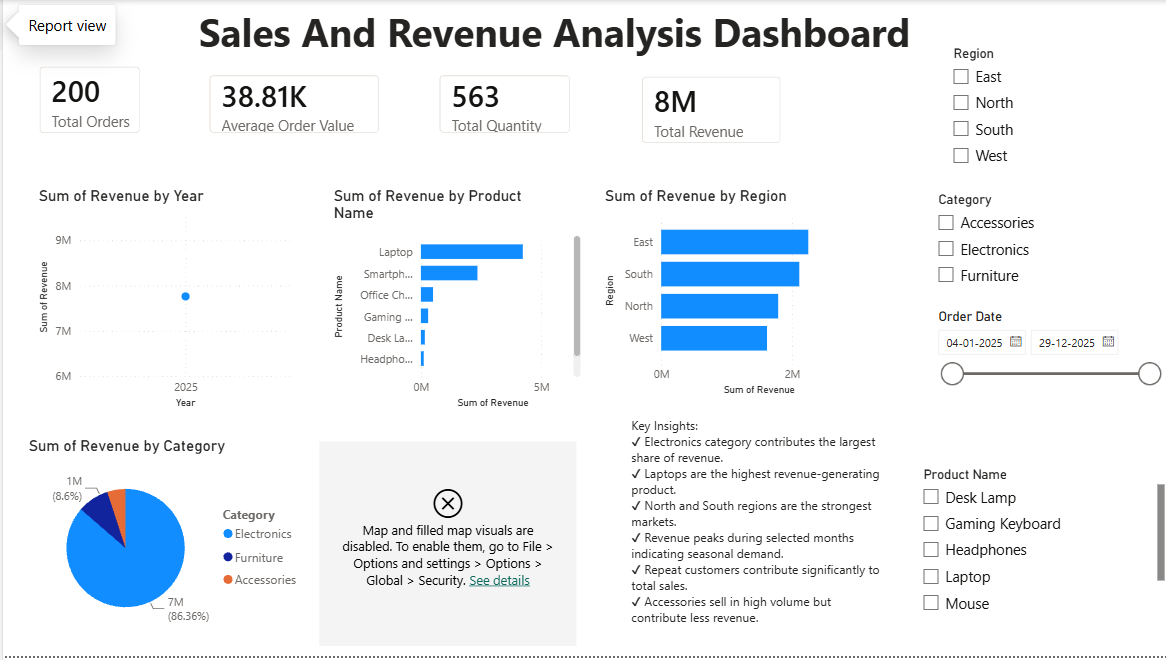

Layout of this report page (visuals, bound fields, positions):
{"tool":"powerbi","page":{"name":"Page 1","canvas":[1280,720],"ordinal":0},"visuals":[{"type":"cardVisual","fields":{"Data":["Sales_Revenue_Dashboard_Dataset (1).Total Orders"]},"box":[23.3,56.3,144.1,107],"z":0},{"type":"cardVisual","fields":{"Data":["Sales_Revenue_Dashboard_Dataset (1).Total Revenue"]},"box":[684.7,67.2,186.6,107],"z":1000},{"type":"cardVisual","fields":{"Data":["Sales_Revenue_Dashboard_Dataset (1).Average Order Value"]},"box":[209.9,65.9,220.9,97.4],"z":2000},{"type":"cardVisual","fields":{"Data":["Sales_Revenue_Dashboard_Dataset (1).Total Quantity"]},"box":[462.4,65.9,177,97.4],"z":3000},{"type":"lineChart","fields":{"Category":["Sales_Revenue_Dashboard_Dataset (1).Order Date.Variation.Date Hierarchy.Year","Sales_Revenue_Dashboard_Dataset (1).Order Date.Variation.Date Hierarchy.Quarter","Sales_Revenue_Dashboard_Dataset (1).Order Date.Variation.Date Hierarchy.Month","Sales_Revenue_Dashboard_Dataset (1).Order Date.Variation.Date Hierarchy.Day"],"Y":["Sum(Sales_Revenue_Dashboard_Dataset (1).Revenue)"]},"box":[34.3,204.5,286.8,248.4],"z":4000},{"type":"clusteredBarChart","fields":{"Category":["Sales_Revenue_Dashboard_Dataset (1).Product Name"],"Y":["Sum(Sales_Revenue_Dashboard_Dataset (1).Revenue)"]},"box":[358.1,204.5,281.3,248.4],"z":5000},{"type":"pieChart","fields":{"Category":["Sales_Revenue_Dashboard_Dataset (1).Category"],"Y":["Sum(Sales_Revenue_Dashboard_Dataset (1).Revenue)"]},"box":[23.3,478.9,312.9,225],"z":6000},{"type":"barChart","fields":{"Category":["Sales_Revenue_Dashboard_Dataset (1).Region"],"Y":["Sum(Sales_Revenue_Dashboard_Dataset (1).Revenue)"]},"box":[655.9,204.5,296.4,234.6],"z":6001},{"type":"filledMap","fields":{"Category":["Sales_Revenue_Dashboard_Dataset (1).Region"],"Series":["Sales_Revenue_Dashboard_Dataset (1).Revenue"]},"box":[347.2,484.4,282.7,225],"z":6002},{"type":"slicer","fields":{"Values":["Sales_Revenue_Dashboard_Dataset (1).Region"]},"box":[1030.5,45.3,249.7,149.6],"z":6003},{"type":"slicer","fields":{"Values":["Sales_Revenue_Dashboard_Dataset (1).Category"]},"box":[1014.1,205.8,258,116.6],"z":6004},{"type":"slicer","fields":{"Values":["Sales_Revenue_Dashboard_Dataset (1).Product Name"]},"box":[997.6,507.7,282.7,175.6],"z":6005},{"type":"slicer","fields":{"Values":["Sales_Revenue_Dashboard_Dataset (1).Order Date"]},"box":[1014.1,333.4,266.2,164.7],"z":6006},{"type":"textbox","box":[209.9,0,804.1,74.1],"z":6008},{"type":"textbox","box":[684.7,452.8,282.7,251.1],"z":6009}]}

Visuals, with their boxes on the page's 1280x720 design canvas (x1, y1, x2, y2). These are canvas units, not pixel positions in the 1166x660 screenshot, which may show the page scaled, cropped or inside an application window:
cardVisual - Sales_Revenue_Dashboard_Dataset (1).Total Orders: (23, 56, 167, 163)
cardVisual - Sales_Revenue_Dashboard_Dataset (1).Total Revenue: (685, 67, 871, 174)
cardVisual - Sales_Revenue_Dashboard_Dataset (1).Average Order Value: (210, 66, 431, 163)
cardVisual - Sales_Revenue_Dashboard_Dataset (1).Total Quantity: (462, 66, 639, 163)
lineChart - Sales_Revenue_Dashboard_Dataset (1).Order Date.Variation.Date Hierarchy.Year x Sales_Revenue_Dashboard_Dataset (1).Order Date.Variation.Date Hierarchy.Quarter: (34, 204, 321, 453)
clusteredBarChart - Sales_Revenue_Dashboard_Dataset (1).Product Name x Sum(Sales_Revenue_Dashboard_Dataset (1).Revenue): (358, 204, 639, 453)
pieChart - Sales_Revenue_Dashboard_Dataset (1).Category x Sum(Sales_Revenue_Dashboard_Dataset (1).Revenue): (23, 479, 336, 704)
barChart - Sales_Revenue_Dashboard_Dataset (1).Region x Sum(Sales_Revenue_Dashboard_Dataset (1).Revenue): (656, 204, 952, 439)
filledMap - Sales_Revenue_Dashboard_Dataset (1).Region x Sales_Revenue_Dashboard_Dataset (1).Revenue: (347, 484, 630, 709)
slicer - Sales_Revenue_Dashboard_Dataset (1).Region: (1030, 45, 1280, 195)
slicer - Sales_Revenue_Dashboard_Dataset (1).Category: (1014, 206, 1272, 322)
slicer - Sales_Revenue_Dashboard_Dataset (1).Product Name: (998, 508, 1280, 683)
slicer - Sales_Revenue_Dashboard_Dataset (1).Order Date: (1014, 333, 1280, 498)
textbox: (210, 0, 1014, 74)
textbox: (685, 453, 967, 704)
